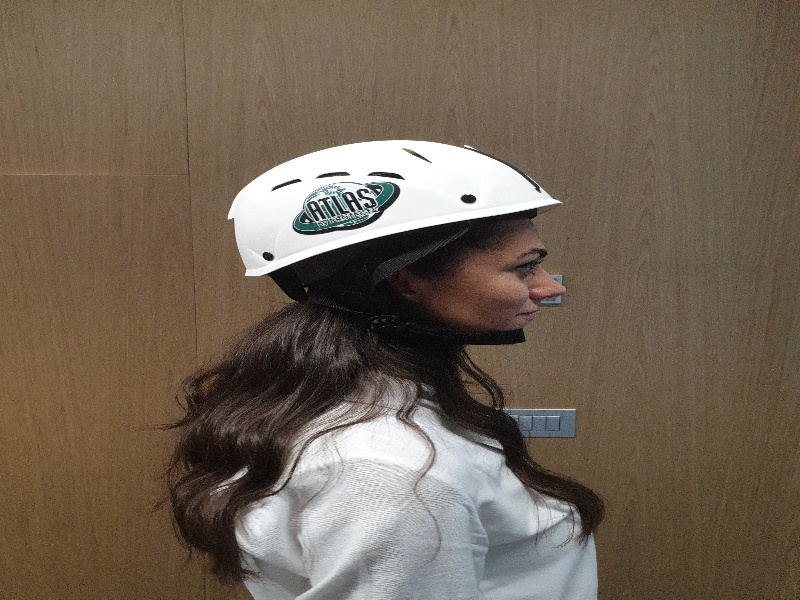Baret: (228, 139, 563, 268)
